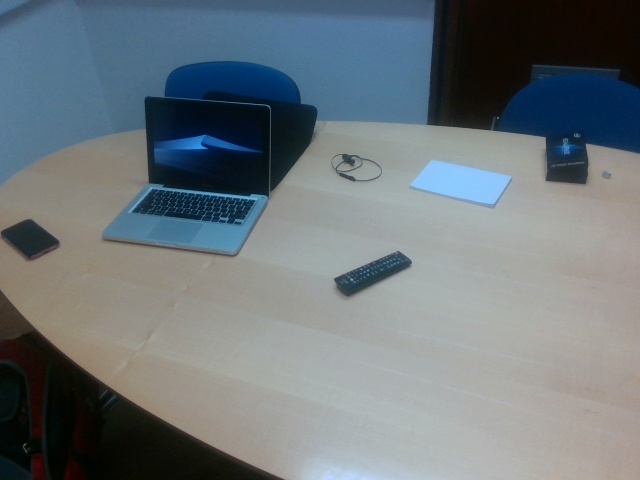remote: (335, 251, 412, 298)
